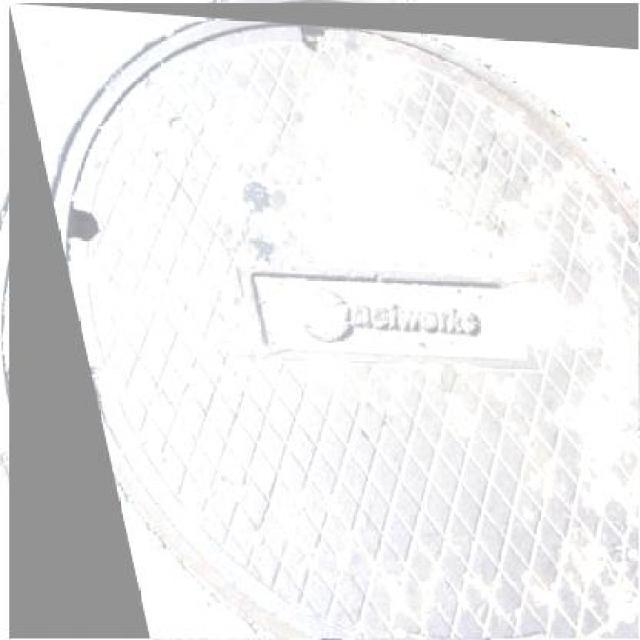Manhole: (9, 3, 638, 639)
